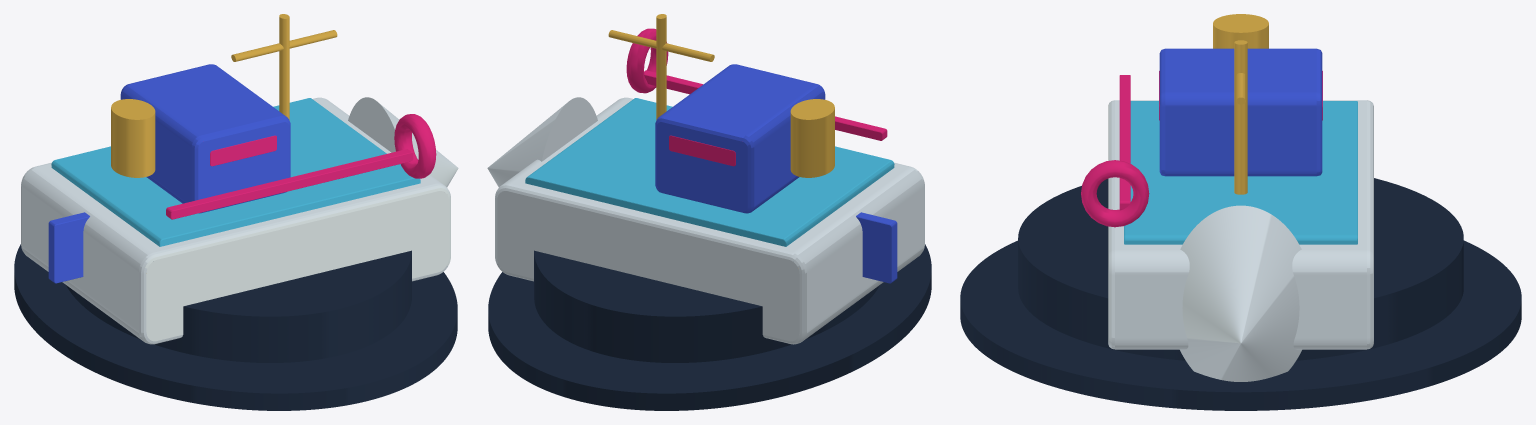
The model's file is 1171_海底两万里_船长的旗帜.glb.
3 renders of one model, left to right at view 1: azimuth 30°, elevation 25°; view 2: azimuth 150°, elevation 25°; view 3: azimuth 270°, elevation 25°, orthographic. The views are drawn at different scales.
Visible parts, largest first — view 1: card_1171; view 2: card_1171; view 3: card_1171.
Boxes of the visible parts, x1,y1,x2,y2 form: card_1171: (14, 14, 458, 410); card_1171: (487, 14, 931, 410); card_1171: (960, 14, 1521, 410).
Bounding box in the file's own units: 1.51 × 1 × 1.67.
